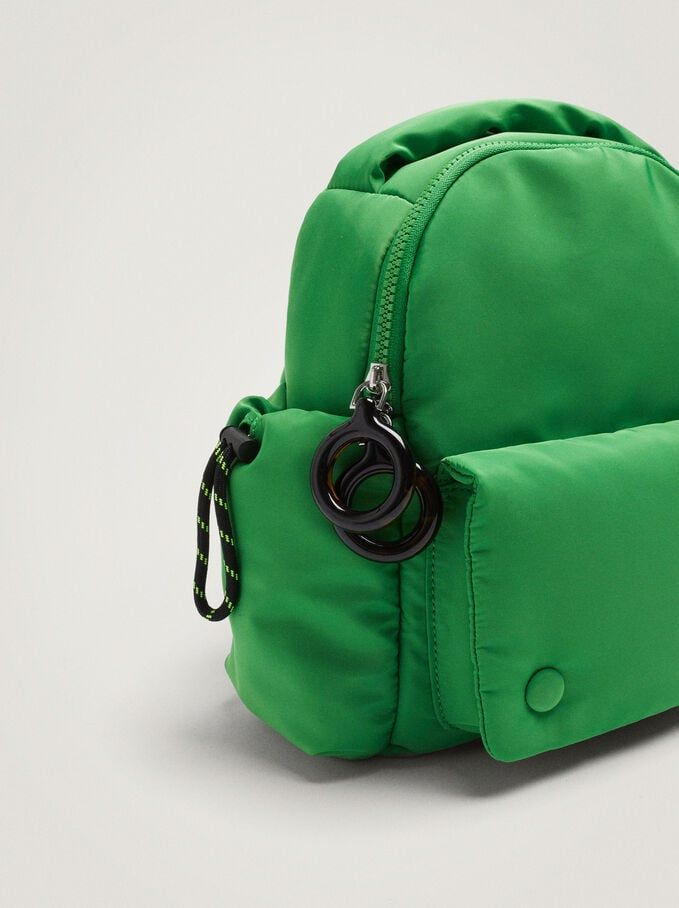nylon: (222, 101, 679, 763)
